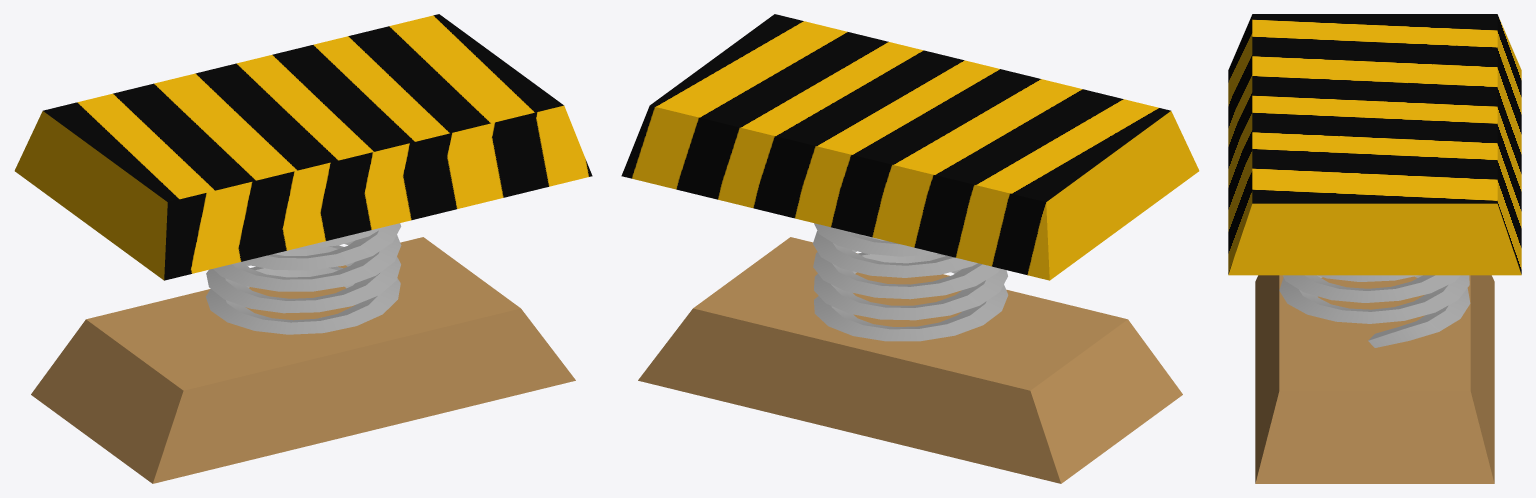
File: bouncePad2.fbx
3 renders of one model, left to right at view 1: azimuth 30°, elevation 25°; view 2: azimuth 150°, elevation 25°; view 3: azimuth 270°, elevation 25°, orthographic. The views are drawn at different scales.
Parts seen in each view (by area): view 1: pasted__pCube1, pCube1, pHelix1; view 2: pasted__pCube1, pCube1, pHelix1; view 3: pasted__pCube1, pCube1, pHelix1.
Part boxes in pixels (x1,y1,x2,y2): pasted__pCube1: (14,14,592,280); pCube1: (31,237,575,483); pHelix1: (206,223,401,334); pasted__pCube1: (621,14,1199,280); pCube1: (638,237,1182,483); pHelix1: (813,223,1008,341); pasted__pCube1: (1228,14,1521,275); pCube1: (1255,275,1494,483); pHelix1: (1279,275,1470,347).
Bounding box in the file's own units: 0.0522 × 0.0326 × 0.0316.
